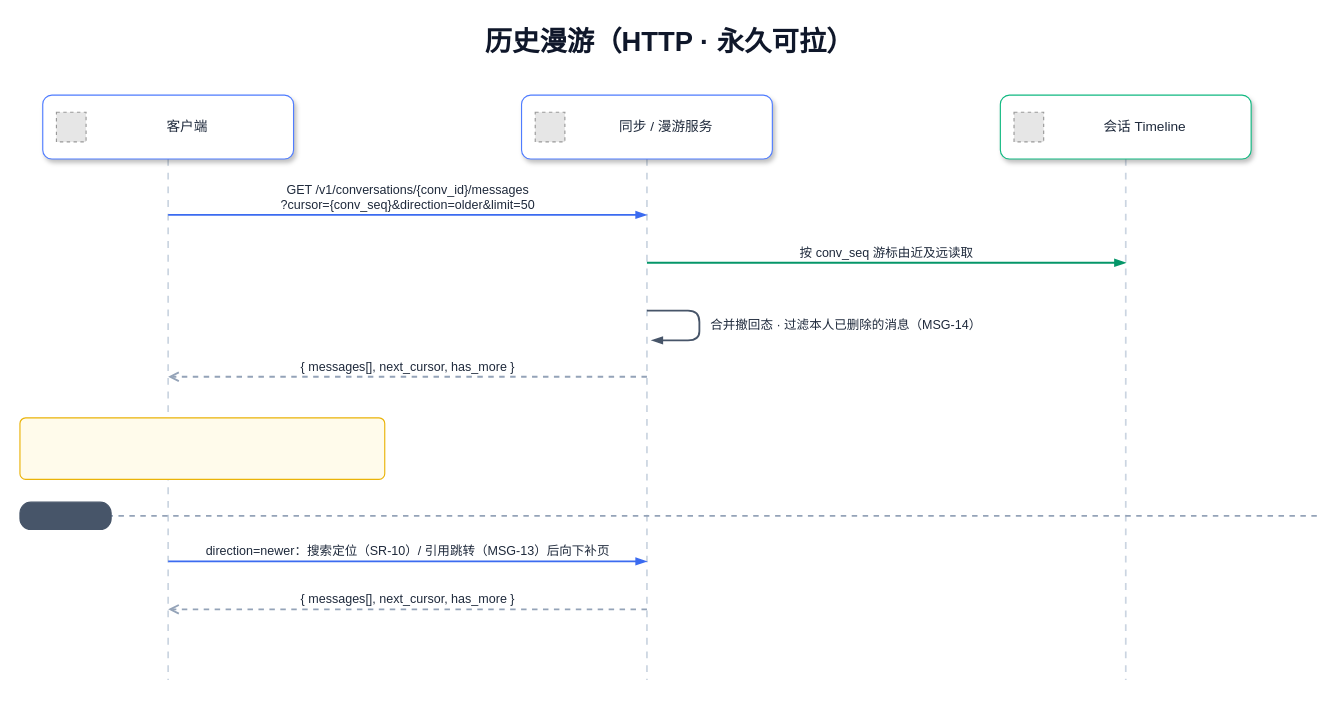
This 1342x701 diagram has some shape labels left out. Grey dashed boxes stand in for pictures. The shapes that lost their labels are listed below. From the top down, each one's centre as x and y in pixels, then its label:
At [202,448]: "失败指数退避重试 3 次 不阻塞已缓存内容展示".
At [65,515]: "定位跳转".
